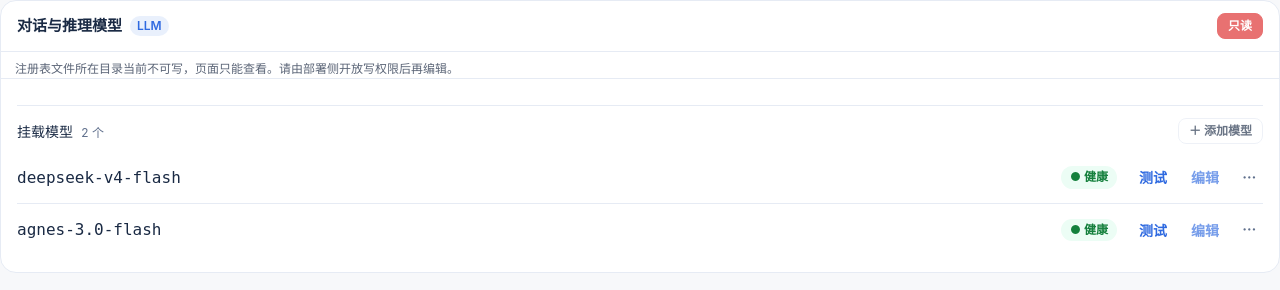
Test: ModelProvidersPanel › 只读（配置文件不可写）：写入口全部禁用并给出说明
Expected: the button with class "mk-link" in the row of "deepseek-v4-flash" is disabled, [1183,163,1227,192]
Expected: the button with class "mk-link" in the row of "deepseek-v4-flash" is enabled, [1131,163,1175,192]
Click the button with class "mk-menu__btn" in the row of "deepseek-v4-flash" at x=1249, y=178, box [1235,164,1263,192]
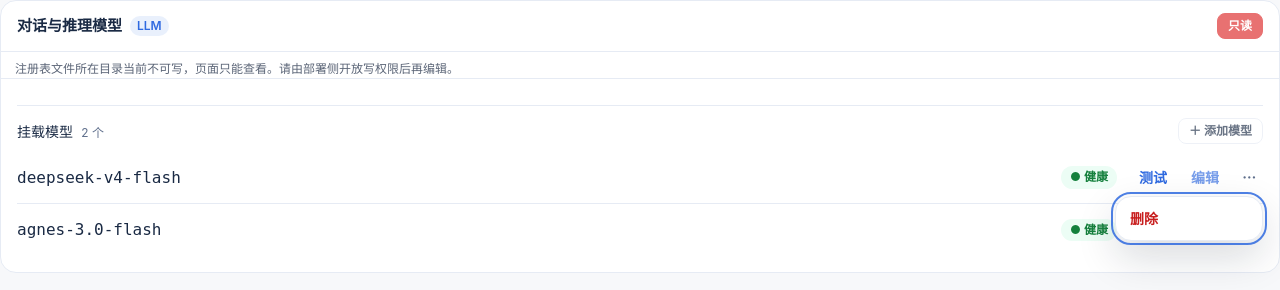
Result: the menu item with class "mk-menu__item" is disabled at [1120,200,1258,236]
